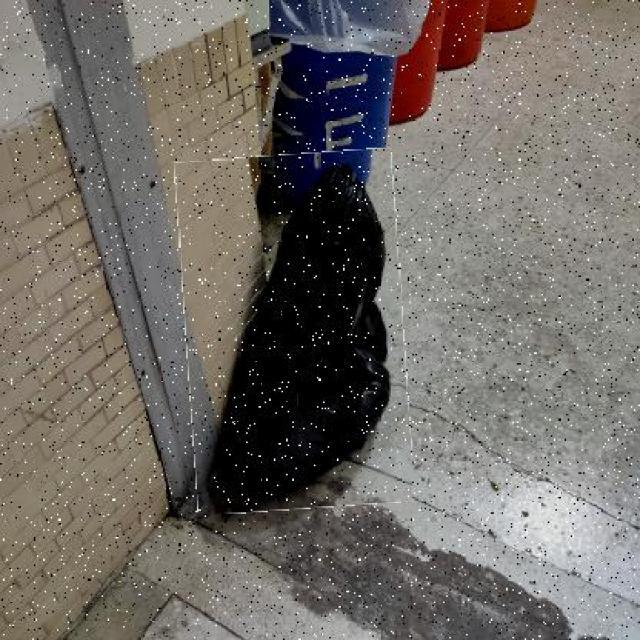waste: (180, 150, 409, 512)
